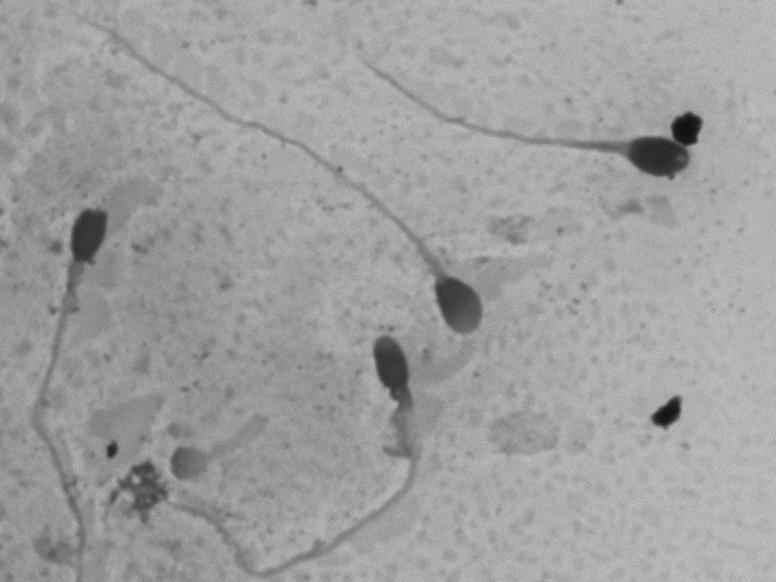Abnormal: (342, 28, 713, 207), (266, 331, 468, 552), (22, 194, 119, 528), (397, 208, 509, 351)
